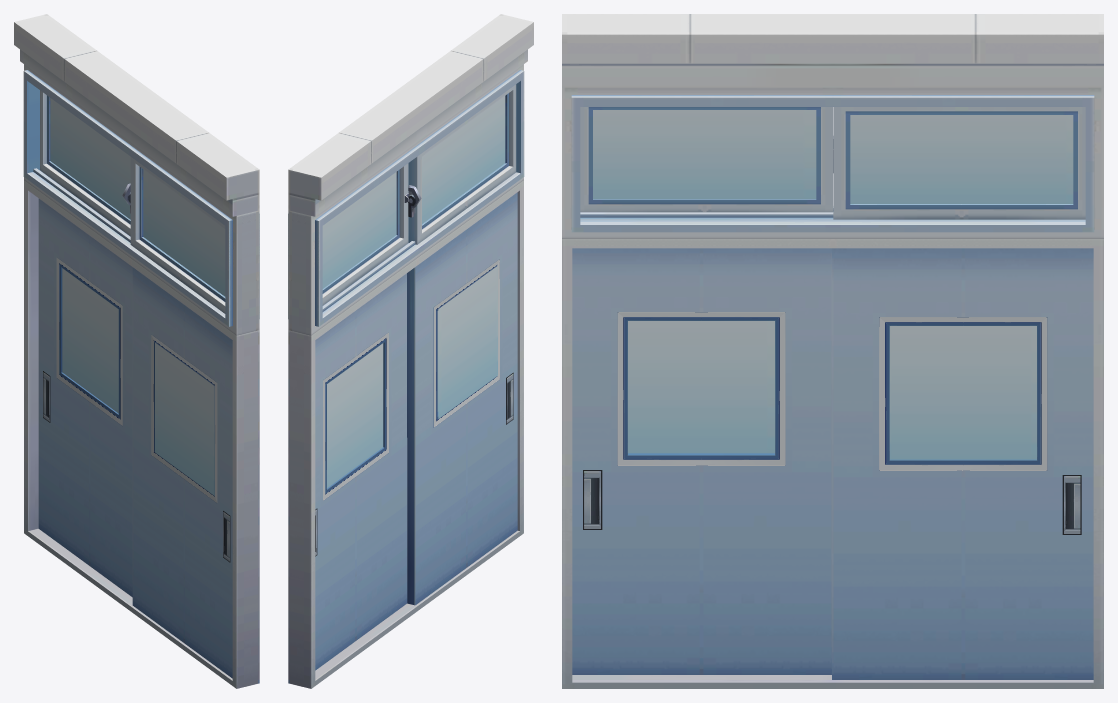
File: my_abydosclassroom_01_partition_02.glb
3 views of the same model, side by side, from view 1: azimuth 30°, elevation 25°; view 2: azimuth 150°, elevation 25°; view 3: azimuth 270°, elevation 25° (orthographic). The views are drawn at different scales.
Visible parts, largest first — view 1: my_abydosclassroom_01_partition_02; view 2: my_abydosclassroom_01_partition_02; view 3: my_abydosclassroom_01_partition_02.
Boxes of the visible parts, x1,y1,x2,y2 form: my_abydosclassroom_01_partition_02: (14,14,259,688); my_abydosclassroom_01_partition_02: (288,14,533,688); my_abydosclassroom_01_partition_02: (562,14,1103,688).
Bounding box in the file's own units: 0.00121 × 0.016 × 0.012.
2 materials, 2 textured.
